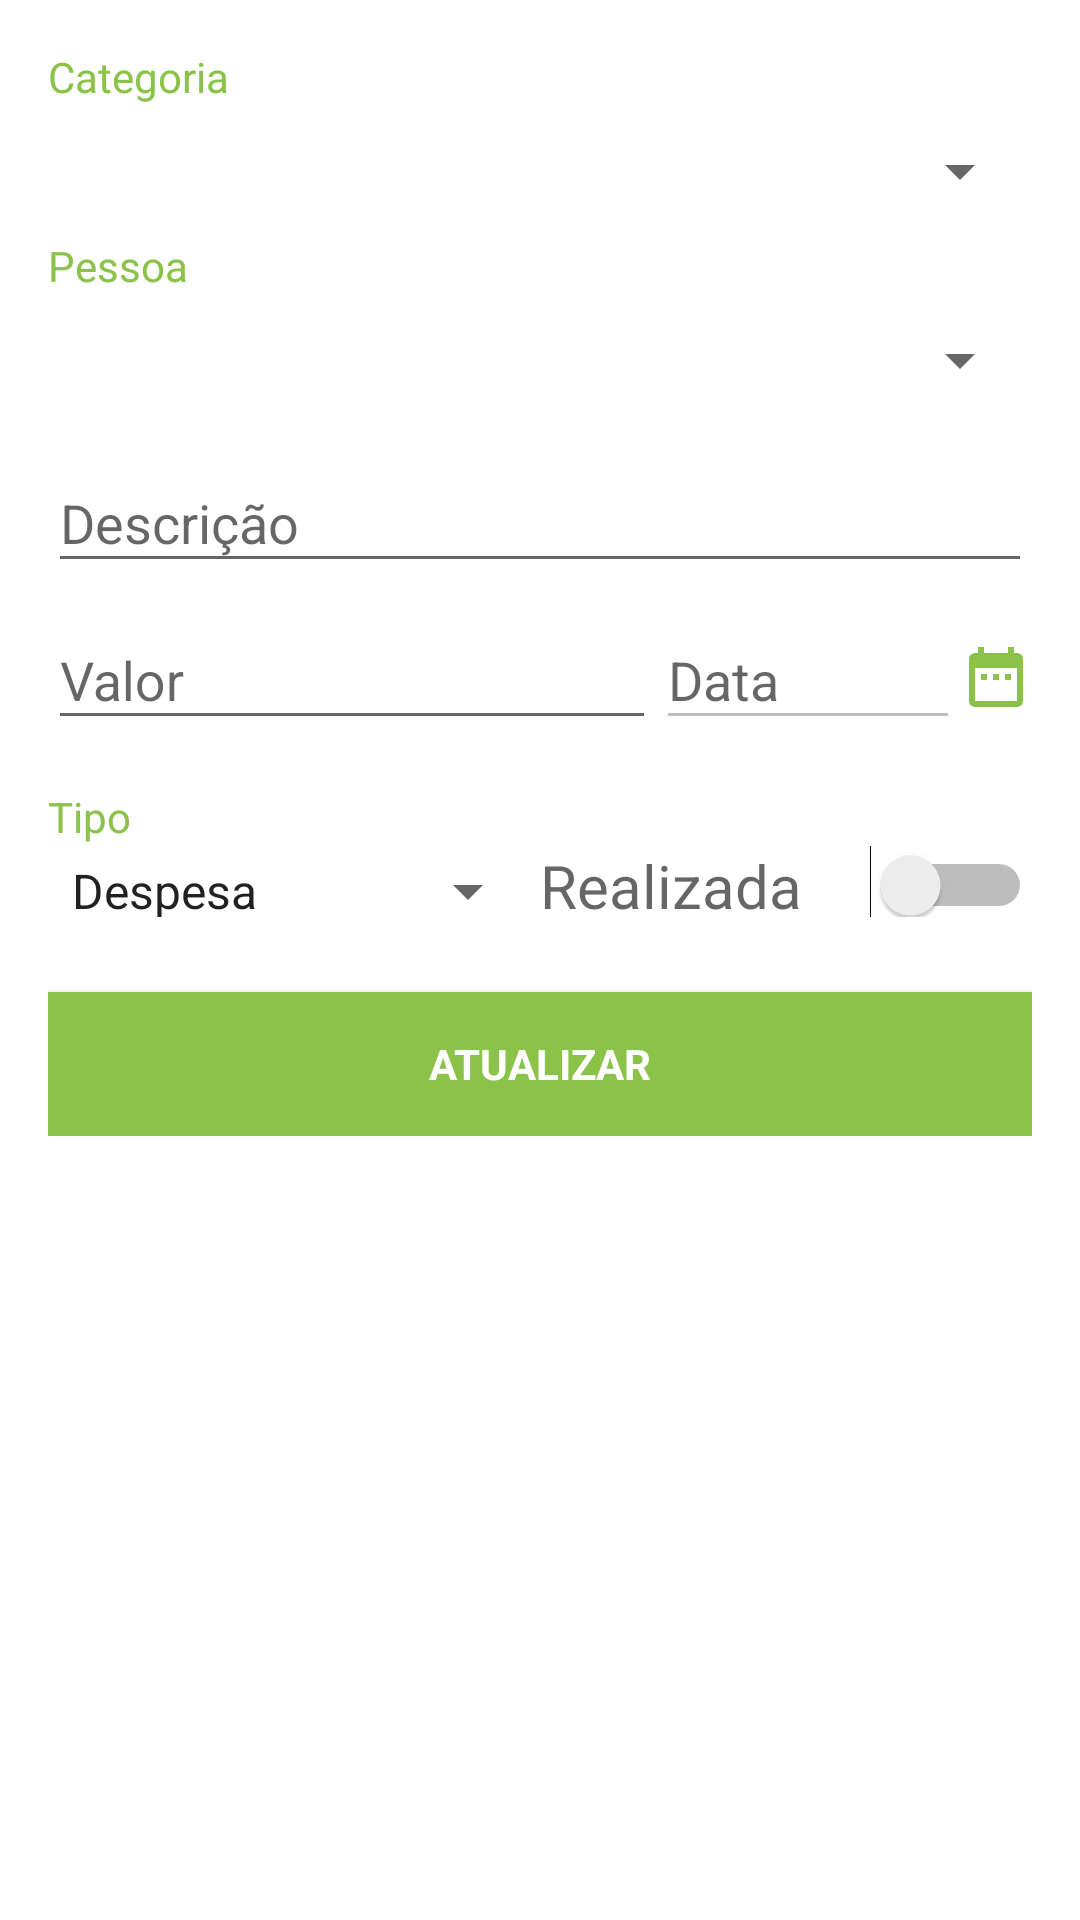

Point at icon controls on the screen. Image size 1080 × 1920, points as (x=x, y=y).
calendario: (x=996, y=677)
